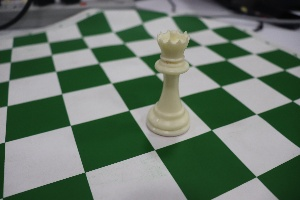white_queen: (146, 19, 192, 141)
